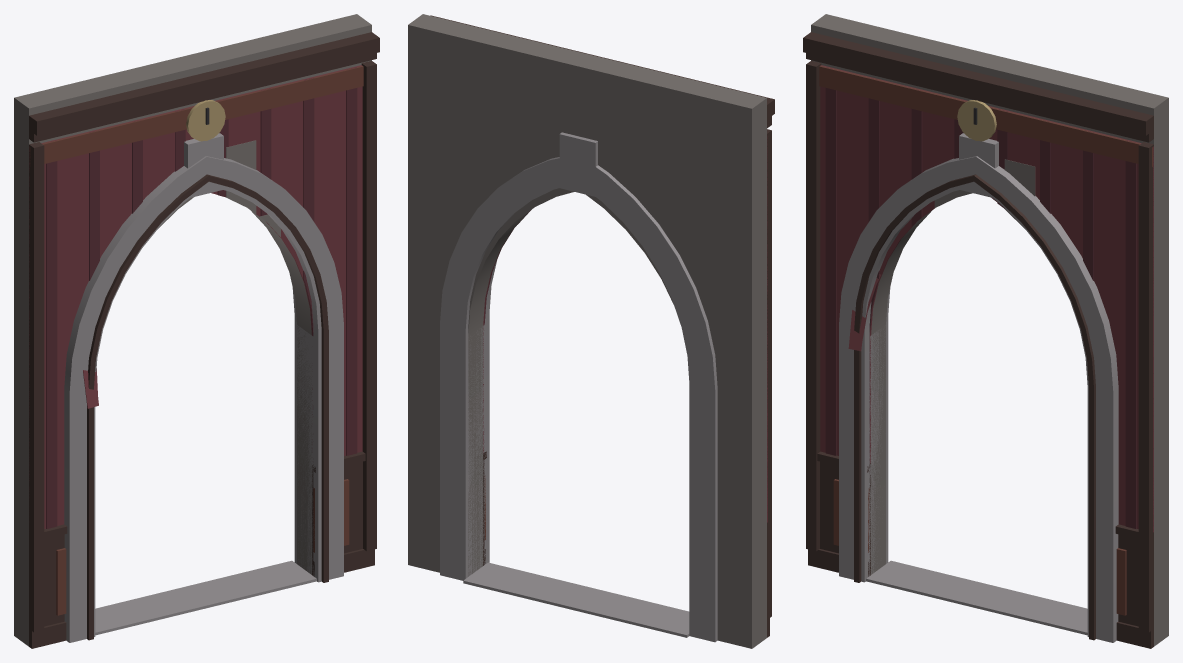
The model's file is doorway.glb.
3 renders of one model, left to right at view 1: azimuth 30°, elevation 25°; view 2: azimuth 150°, elevation 25°; view 3: azimuth 330°, elevation 25°, orthographic.
Parts seen in each view (by area): view 1: Doorway; view 2: Doorway; view 3: Doorway.
Part boxes in pixels (x1,y1,x2,y2): Doorway: [14, 14, 379, 648]; Doorway: [408, 14, 774, 648]; Doorway: [803, 14, 1168, 648].
Bounding box in the file's own units: 4 × 6 × 0.6151.
